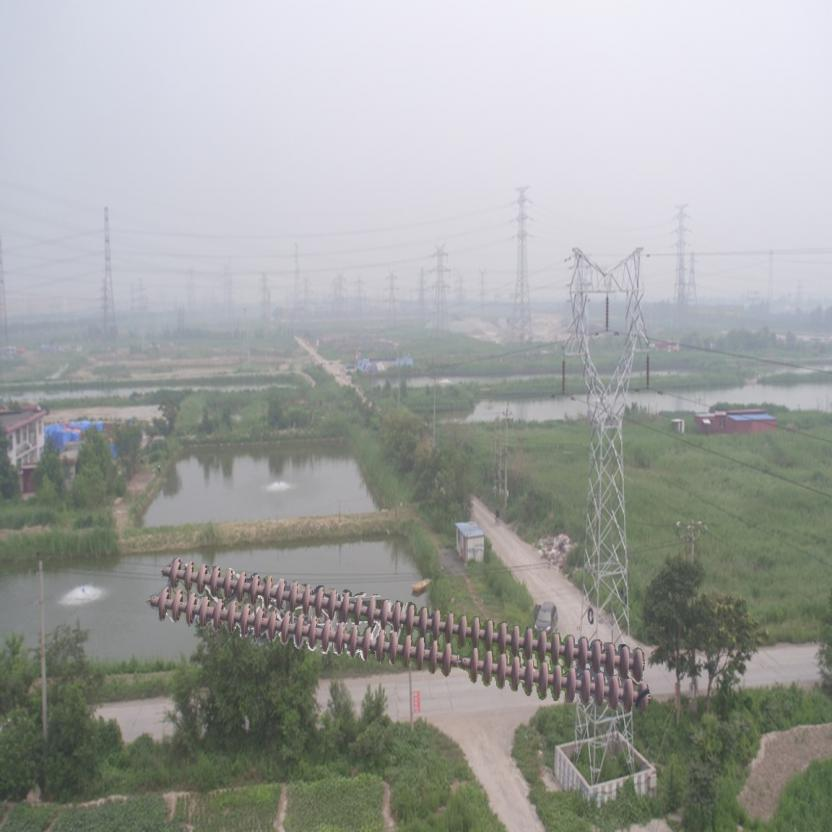defect: (436, 641, 484, 685)
